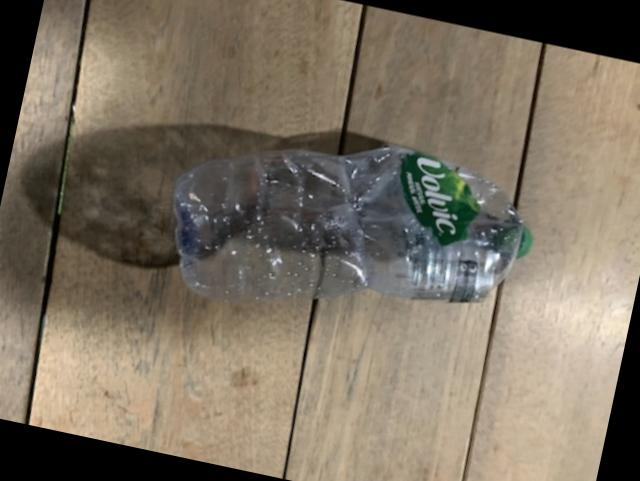plastic: (173, 144, 529, 299)
